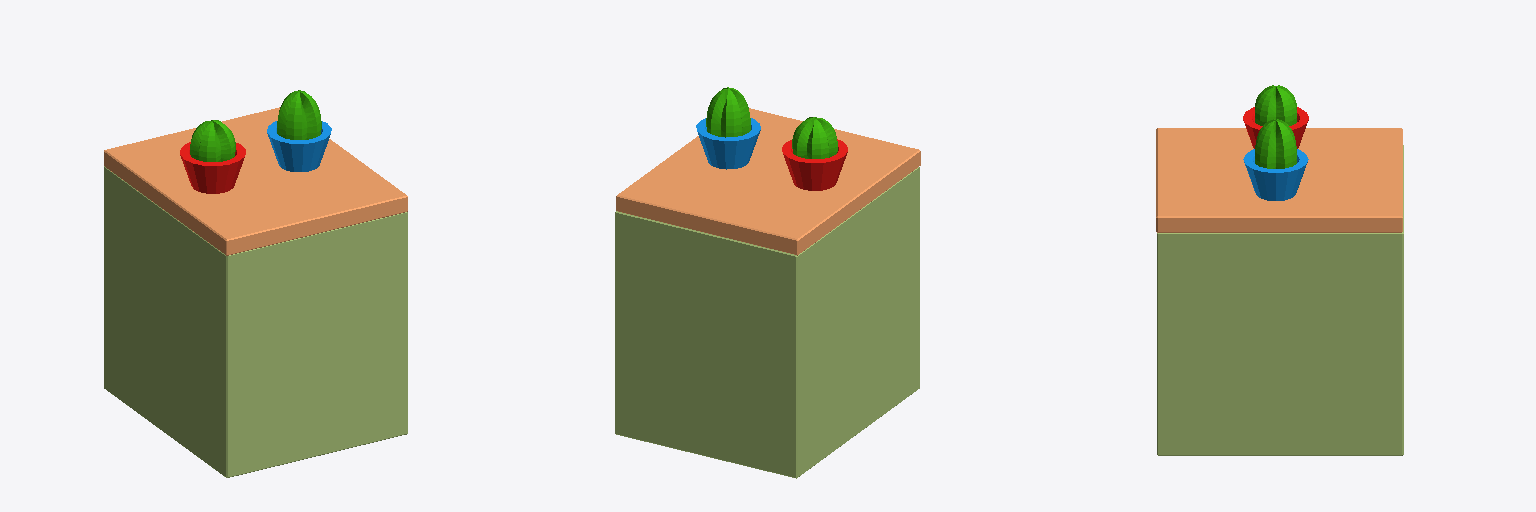
The model's file is green-kitchen3.obj.
3 renders of one model, left to right at view 1: azimuth 30°, elevation 25°; view 2: azimuth 150°, elevation 25°; view 3: azimuth 270°, elevation 25°, orthographic.
Parts seen in each view (by area): view 1: green_kitchen3:CounterFBXASC032corner1; view 2: green_kitchen3:CounterFBXASC032corner1; view 3: green_kitchen3:CounterFBXASC032corner1.
Boxes of the visible parts, <box> form: green_kitchen3:CounterFBXASC032corner1: <box>104,90,407,477</box>; green_kitchen3:CounterFBXASC032corner1: <box>615,87,920,478</box>; green_kitchen3:CounterFBXASC032corner1: <box>1156,85,1403,455</box>.
Bounding box in the file's own units: 120 × 195 × 140.